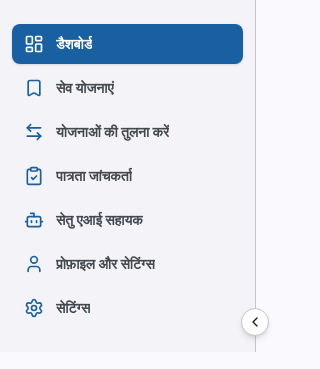
Test: icon-only buttons have a name screen readers read (hi) › the sidebar collapse button says which way it goes
Click the button named "साइडबार छोटा करें" at [255, 322], box [241,308,269,336]
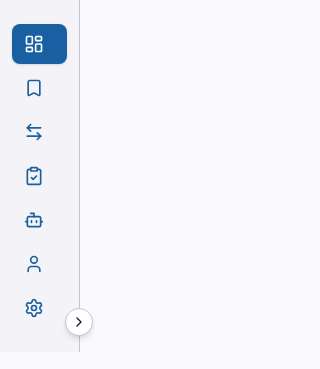
Now the button named "साइडबार फैलाएँ" is collapsed, box [65,308,93,336]
